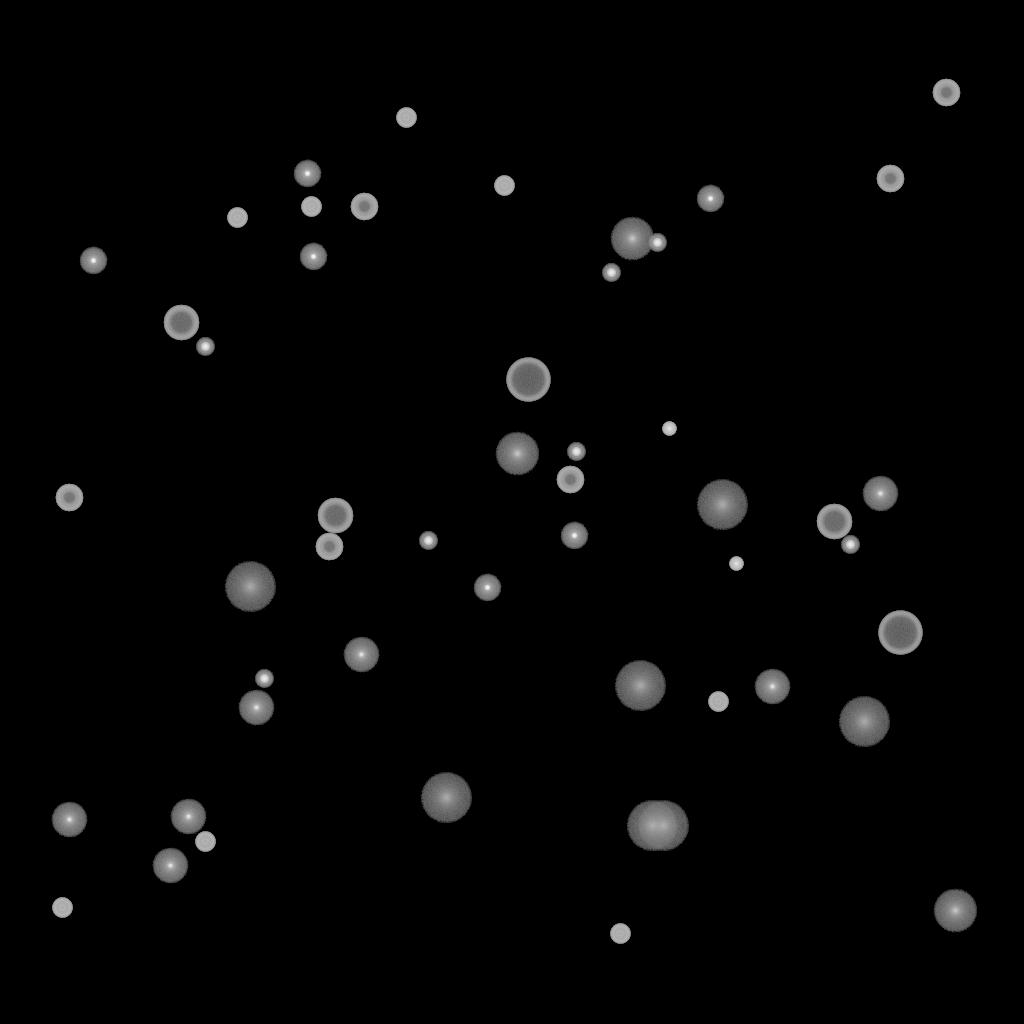depth:-10: (293, 160, 321, 188), (473, 574, 501, 602), (299, 243, 327, 271), (79, 247, 107, 275), (560, 522, 588, 550), (696, 185, 724, 213)
depth:-20: (841, 536, 859, 554), (255, 670, 273, 688), (196, 338, 214, 356), (567, 443, 585, 461), (602, 264, 620, 282), (648, 234, 666, 252), (419, 532, 437, 550)
depth:-30: (729, 557, 743, 571), (662, 422, 676, 436)
depth:-40: (708, 692, 728, 712), (301, 197, 321, 217), (610, 924, 630, 944), (195, 832, 215, 852), (396, 108, 416, 128), (227, 208, 247, 228), (52, 898, 72, 918), (494, 176, 514, 196)
depth:-50: (350, 193, 378, 221), (932, 79, 960, 107), (315, 533, 343, 561), (876, 165, 904, 193), (556, 466, 584, 494), (55, 484, 83, 512)
depth:-60: (163, 305, 199, 341), (317, 498, 353, 534), (816, 504, 852, 540)
depth:-70: (878, 611, 922, 655), (506, 358, 550, 402)
depth:0: (862, 476, 898, 512), (51, 802, 87, 838), (754, 669, 790, 705), (170, 799, 206, 835), (238, 690, 274, 726), (343, 637, 379, 673), (152, 848, 188, 884)
depth:10: (610, 217, 654, 261), (495, 432, 539, 476), (933, 889, 977, 933)
depth:20: (626, 801, 678, 851), (614, 661, 666, 711), (420, 773, 472, 823), (637, 801, 689, 851), (696, 480, 748, 530), (838, 697, 890, 747), (224, 562, 276, 612)
